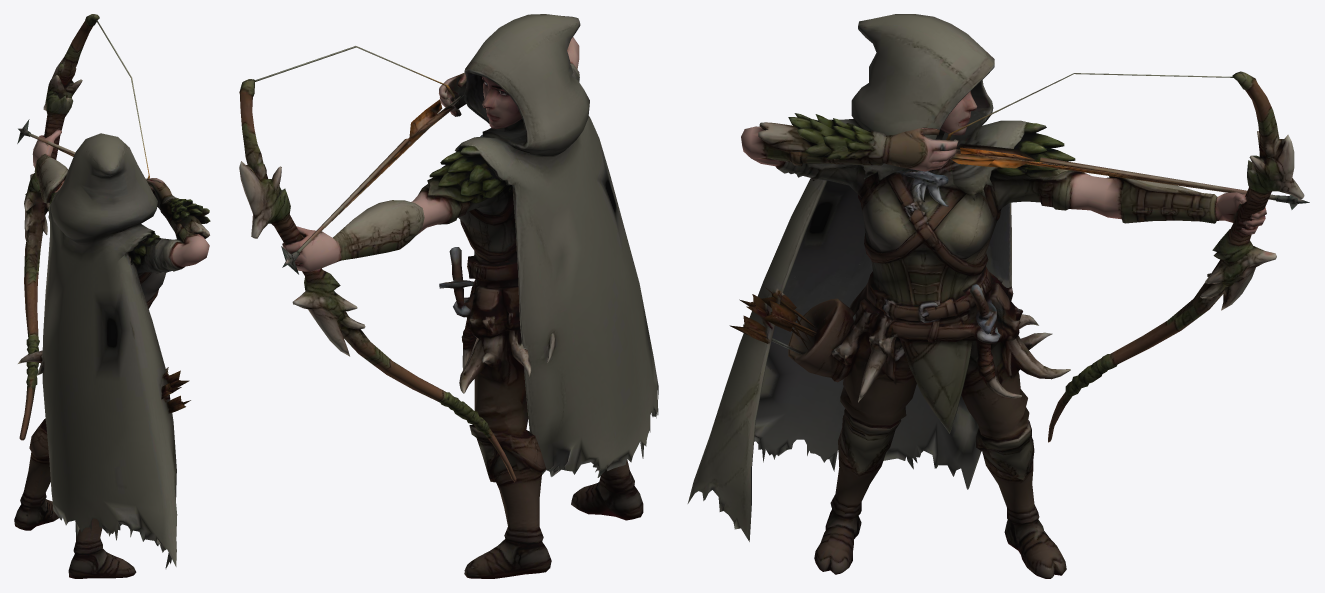
File: pbr_model.glb
3 renders of one model, left to right at view 1: azimuth 30°, elevation 25°; view 2: azimuth 150°, elevation 25°; view 3: azimuth 270°, elevation 25°, orthographic. The views are drawn at different scales.
Visible parts, largest first — view 1: tripo_node_a2c3541b-df3a-4665-b14c-91222dd2cfda; view 2: tripo_node_a2c3541b-df3a-4665-b14c-91222dd2cfda; view 3: tripo_node_a2c3541b-df3a-4665-b14c-91222dd2cfda.
Part boxes in pixels (x1=…): tripo_node_a2c3541b-df3a-4665-b14c-91222dd2cfda: x1=14, y1=14, x2=210, y2=578; tripo_node_a2c3541b-df3a-4665-b14c-91222dd2cfda: x1=239, y1=14, x2=658, y2=578; tripo_node_a2c3541b-df3a-4665-b14c-91222dd2cfda: x1=687, y1=14, x2=1309, y2=578.
Bounding box in the file's own units: 0.4316 × 0.998 × 0.9785.
Materials: 1 (1 with a texture image).
